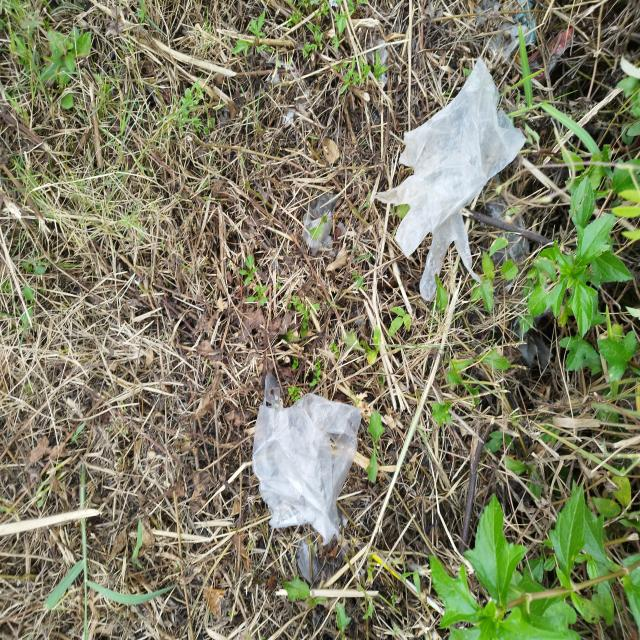bag: (253, 370, 362, 545)
plastic utensil: (375, 55, 527, 302)
